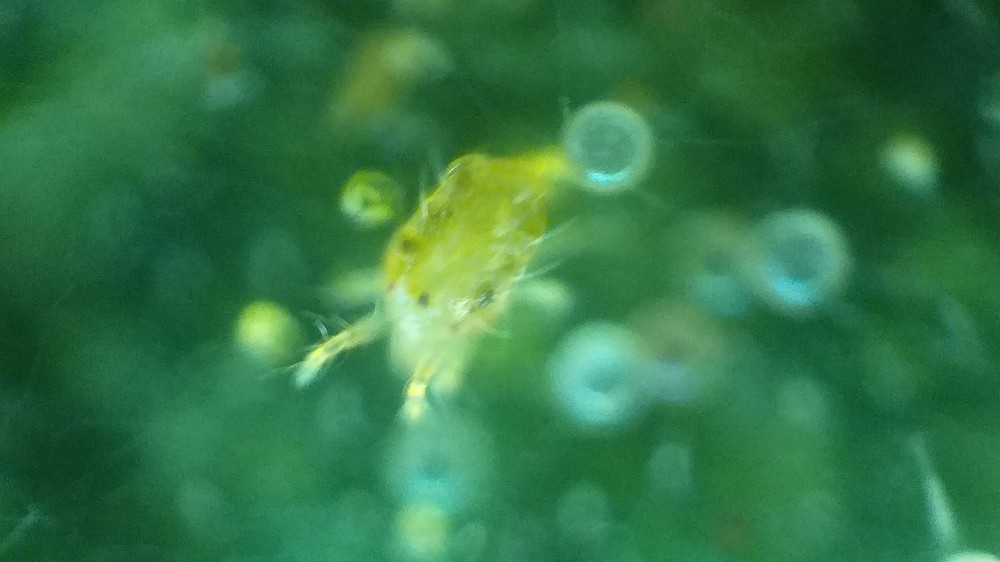Aracnido Rojo: (301, 143, 608, 433)
